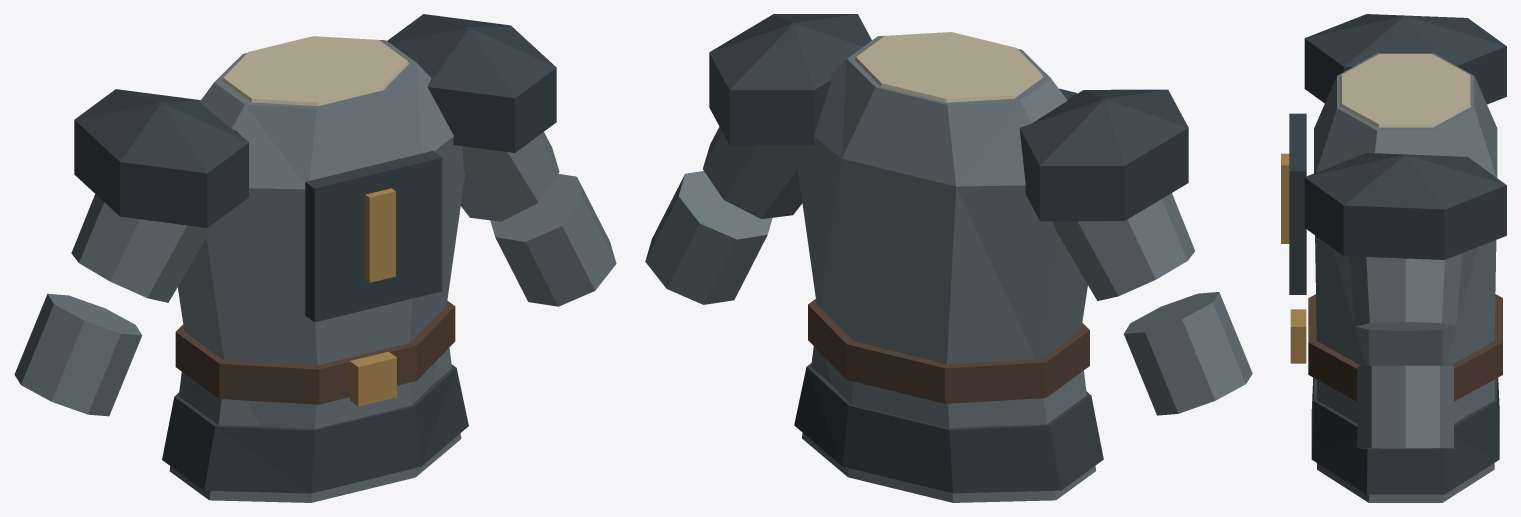
The model's file is NPC_Torso_01_Armor.glb.
3 views of the same model, side by side, from view 1: azimuth 30°, elevation 25°; view 2: azimuth 150°, elevation 25°; view 3: azimuth 270°, elevation 25° (orthographic). The views are drawn at different scales.
Visible parts, largest first — view 1: NPC_Torso_01_Armor; view 2: NPC_Torso_01_Armor; view 3: NPC_Torso_01_Armor.
Part boxes in pixels (bbox=[...]): NPC_Torso_01_Armor: bbox=[14, 14, 616, 502]; NPC_Torso_01_Armor: bbox=[645, 14, 1252, 502]; NPC_Torso_01_Armor: bbox=[1281, 14, 1506, 502].
Bounding box in the file's own units: 1.01 × 0.64 × 0.3641.
